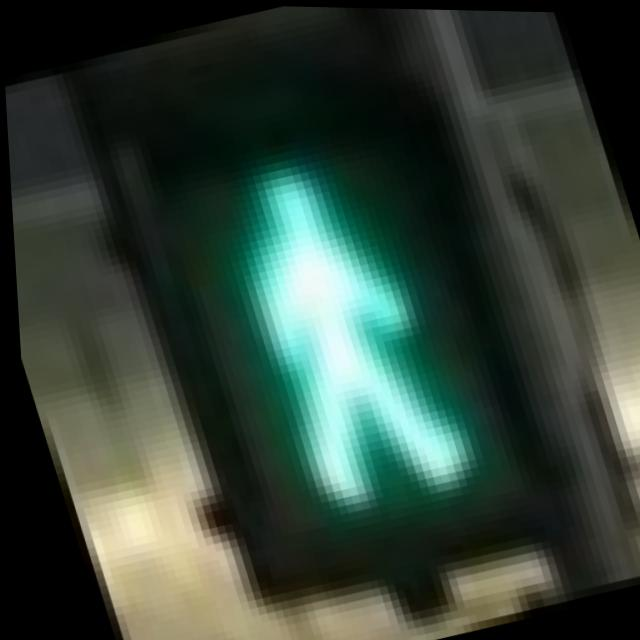green_light: (92, 57, 549, 577)
